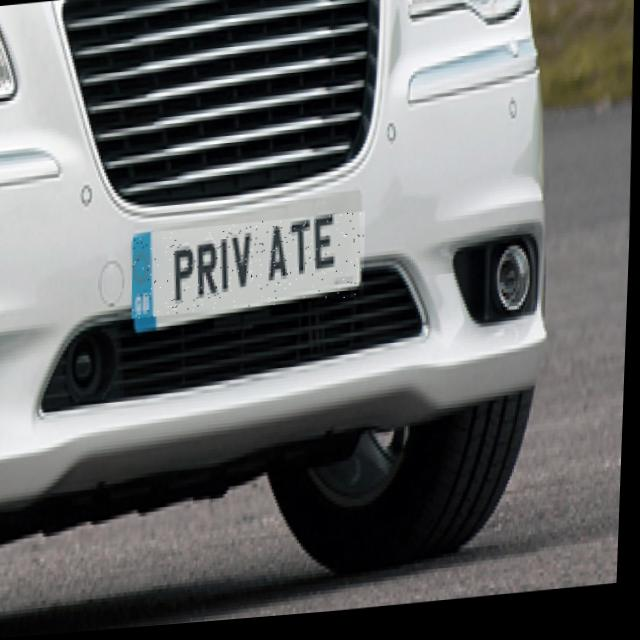license_plate: (133, 217, 370, 321)
